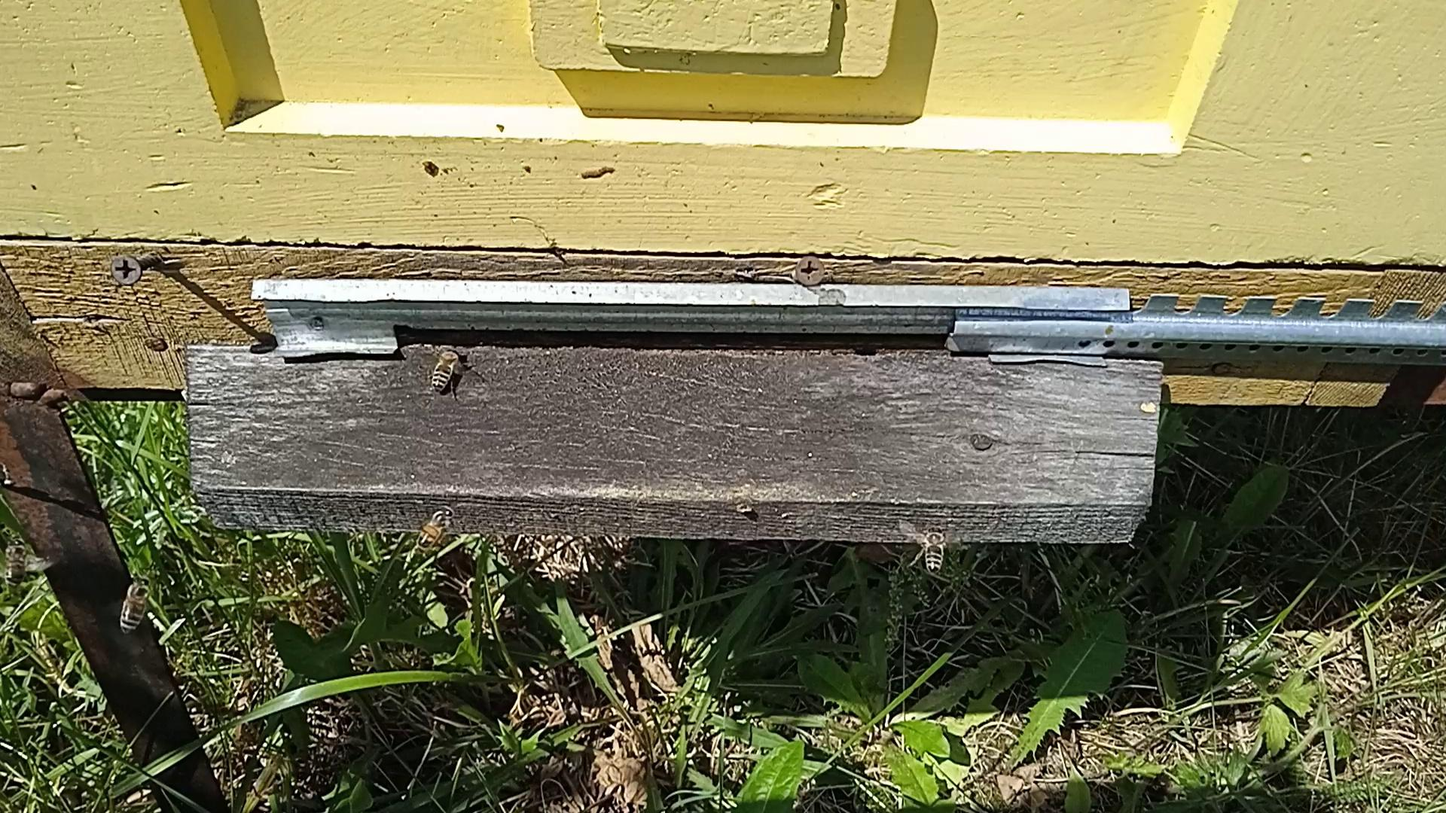worker-bee: (118, 577, 151, 634), (416, 507, 454, 553), (429, 346, 465, 393), (922, 526, 947, 573), (4, 539, 26, 586)
